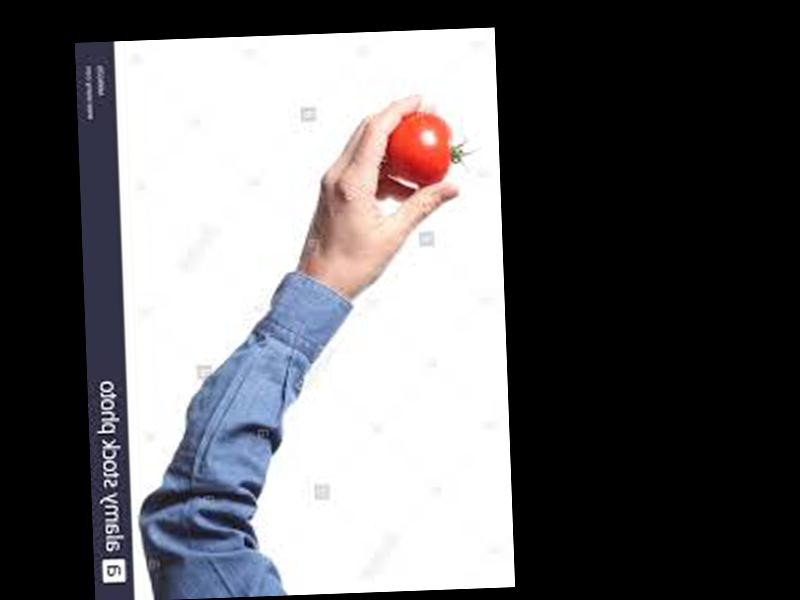Tomato: (387, 110, 451, 184)
